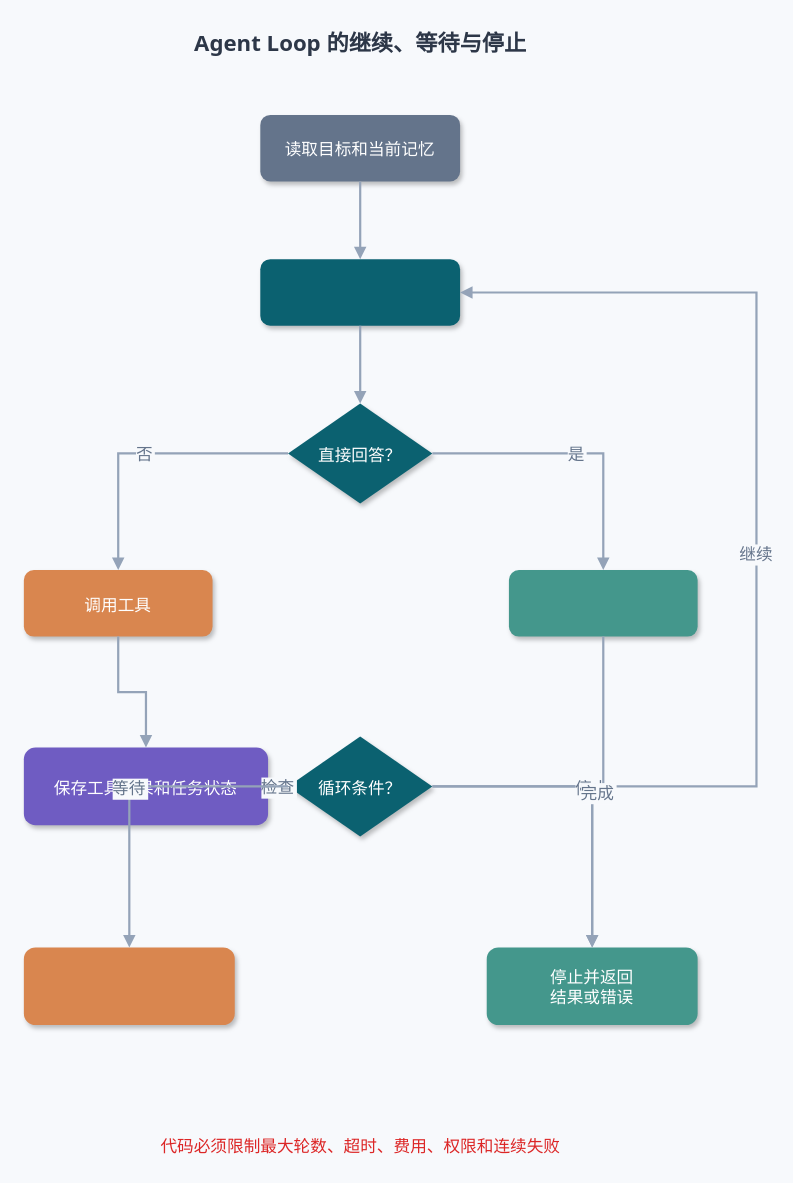
The diagram is 793 pixels wide and 1183 high, and some of its shapes have lost their labels. The centre of each missing label's shape, as x and y in pixels:
LLM 判断下一步: the point at 360,293
生成最终结果: the point at 604,604
等待用户参数 或人工确认: the point at 130,987
